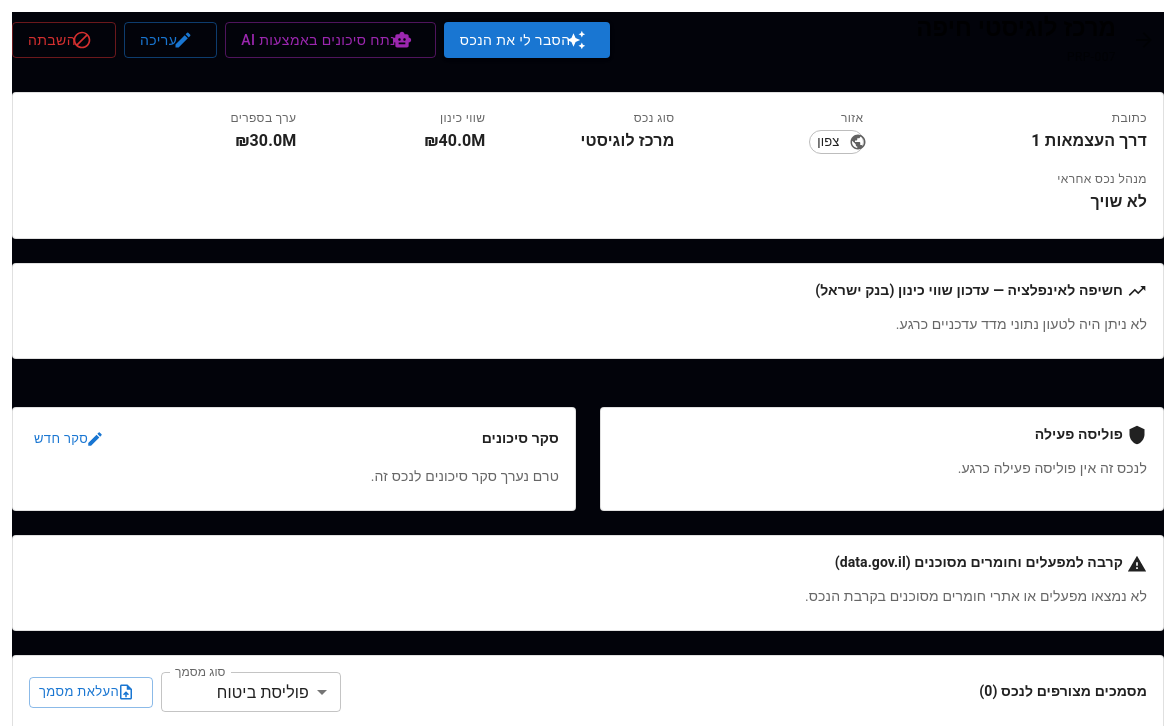
Scenario: PropertyDetail — 'הסבר לי את הנכס' › closes the card
The width and height of the screenshot is (1176, 726).
Click the button "הסבר לי את הנכס" at (527, 40), box top-left (444, 22), bottom-right (610, 58)
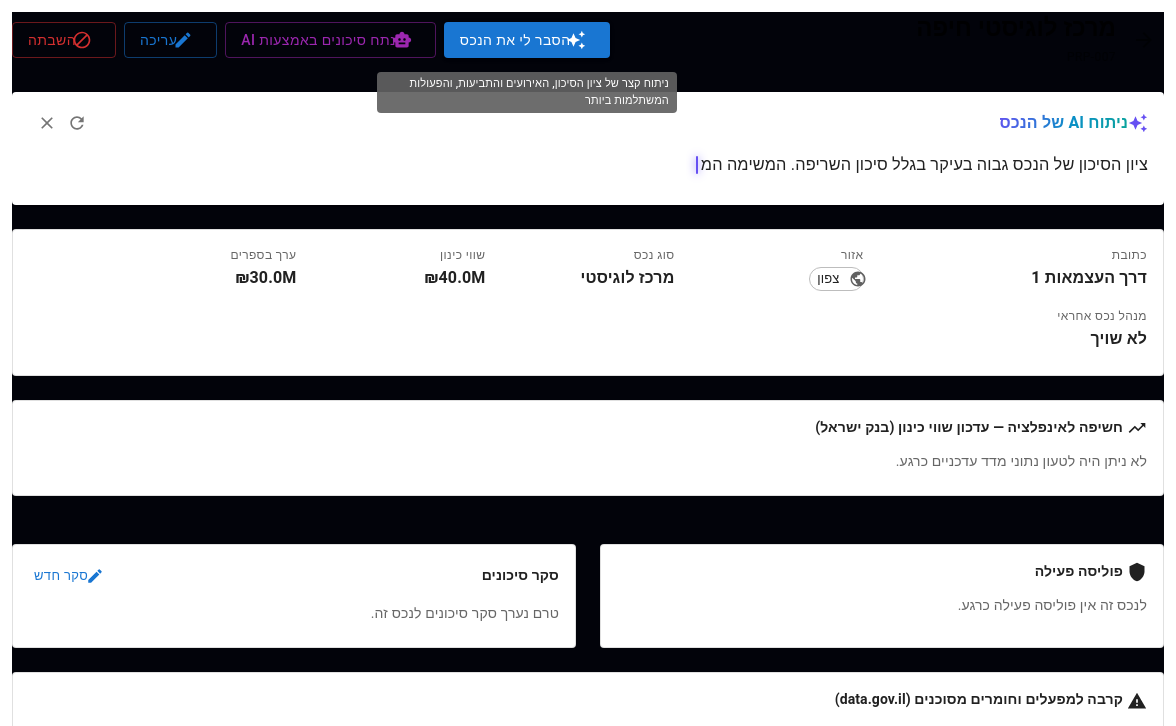
Click the button named "סגירת הניתוח" at (47, 123), box top-left (32, 108), bottom-right (62, 138)
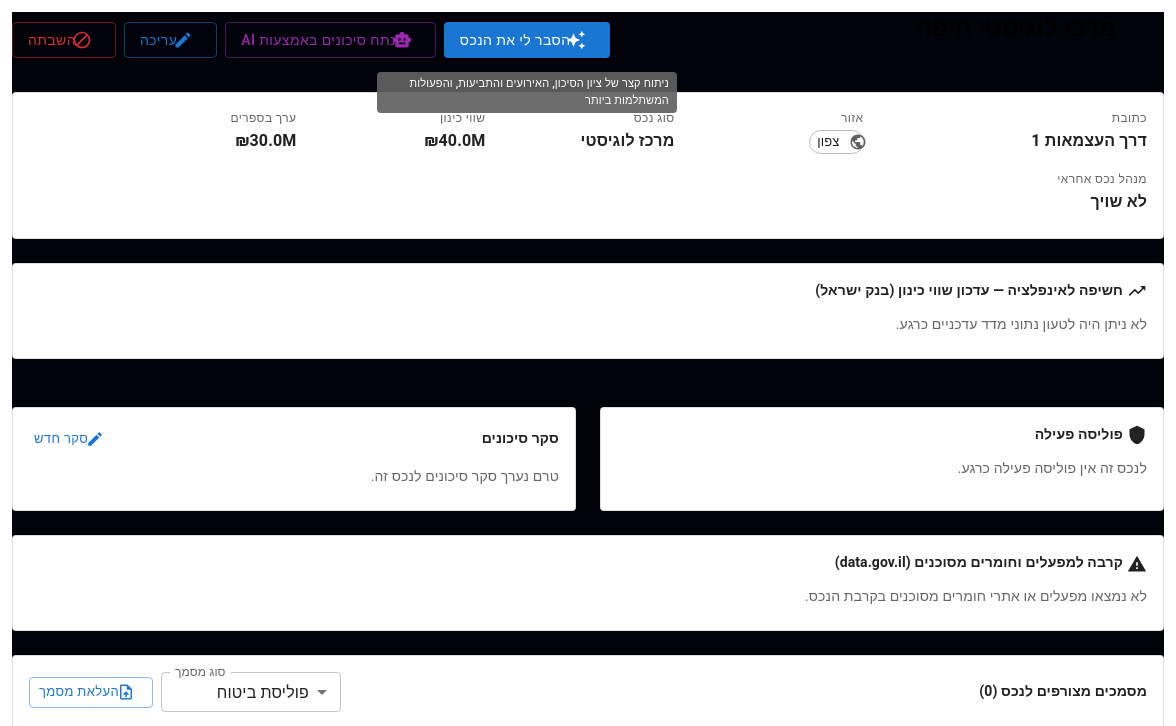
expect the heading "ניתוח AI של הנכס" is gone: met
